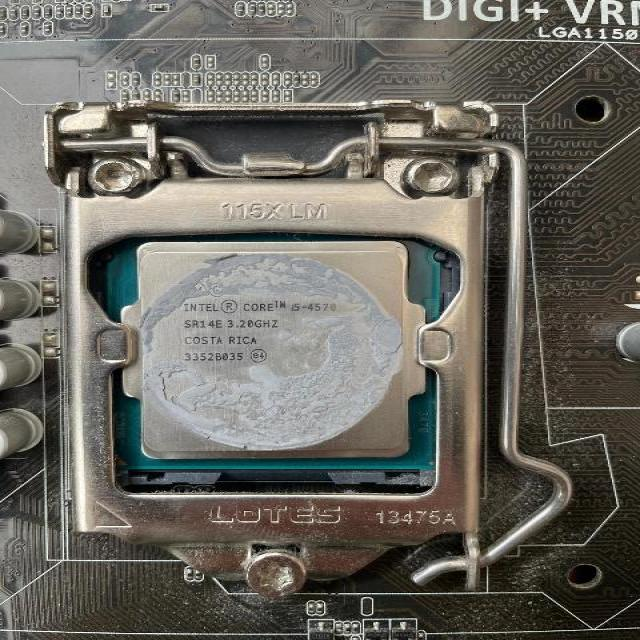CPU: (103, 231, 444, 473)
